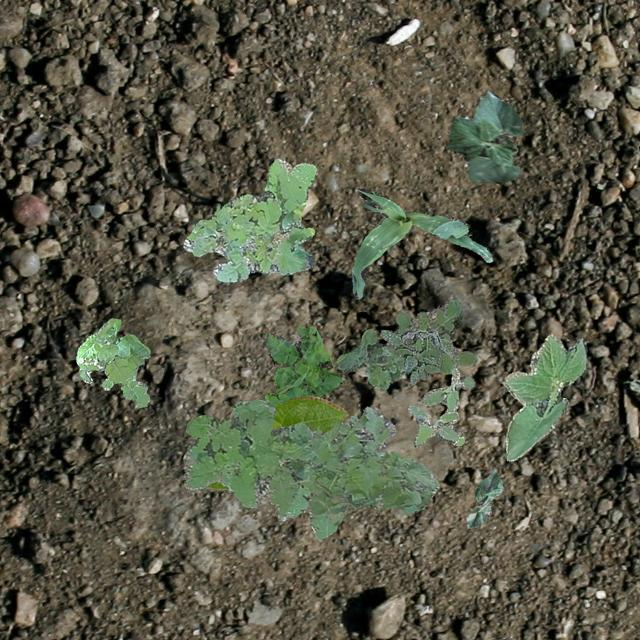crop: (351, 188, 492, 298), (205, 394, 348, 490), (502, 334, 586, 461), (446, 90, 522, 182), (466, 468, 502, 528)
weed: (182, 398, 438, 538), (182, 157, 316, 280), (336, 298, 476, 389), (75, 316, 148, 406), (264, 324, 344, 406), (408, 368, 473, 447), (380, 328, 454, 384)
